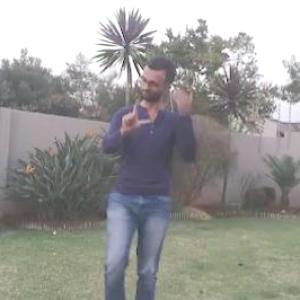land_hand: (117, 87, 151, 135)
